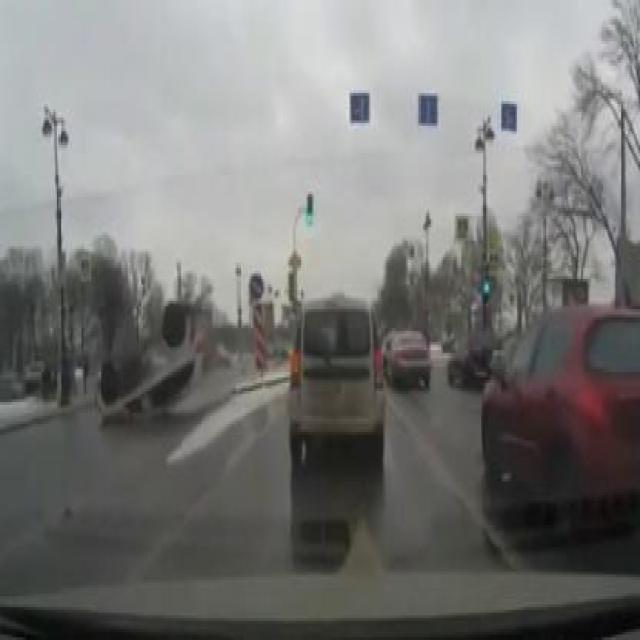accident: (91, 296, 206, 430)
